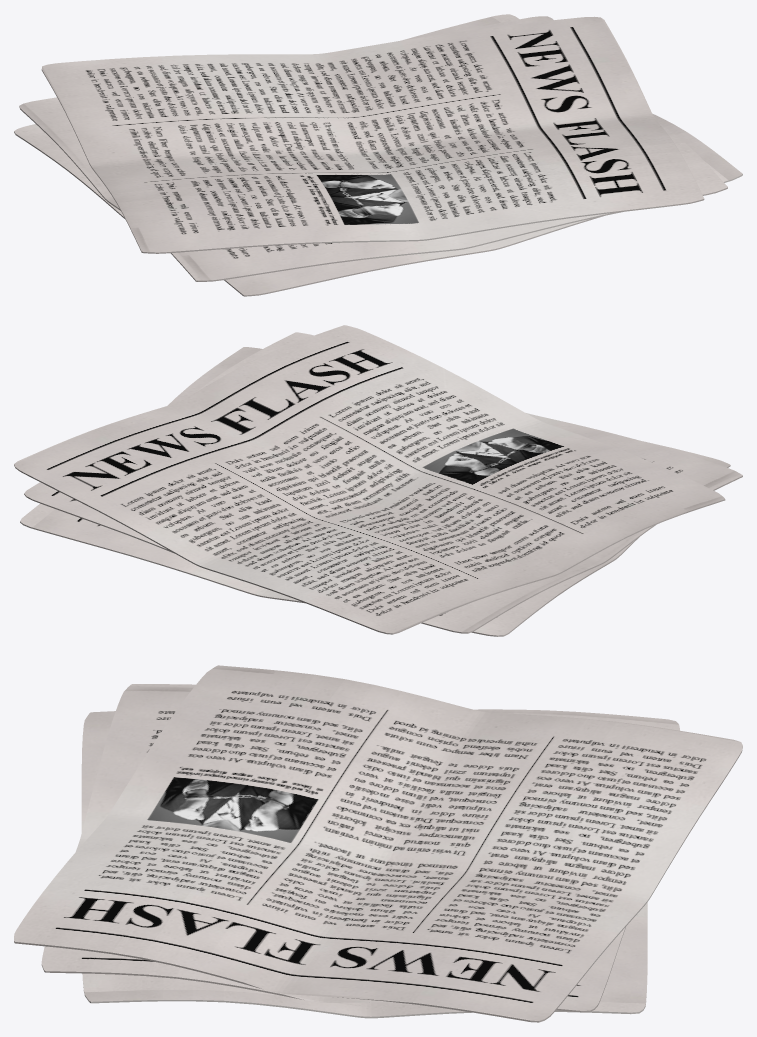
File: Newspaper Stack NEW.fbx
3 views of the same model, one above another, from view 1: azimuth 30°, elevation 25°; view 2: azimuth 150°, elevation 25°; view 3: azimuth 270°, elevation 25° (orthographic). The views are drawn at different scales.
Visible parts, largest first — view 1: Newspaper2, Newspaper3, Newspaper1; view 2: Newspaper2, Newspaper3, Newspaper1; view 3: Newspaper2, Newspaper3, Newspaper1.
Boxes of the visible parts, box(x1,y1,x2,y2) form: Newspaper2: box(41, 16, 704, 253); Newspaper3: box(19, 16, 727, 281); Newspaper1: box(14, 14, 742, 296); Newspaper2: box(14, 325, 725, 634); Newspaper3: box(24, 332, 742, 633); Newspaper1: box(20, 347, 730, 636); Newspaper2: box(14, 665, 742, 1022); Newspaper3: box(41, 684, 679, 1012); Newspaper1: box(81, 711, 647, 1018).
Size of the model in its own units: 129 by 9.27 by 115.
